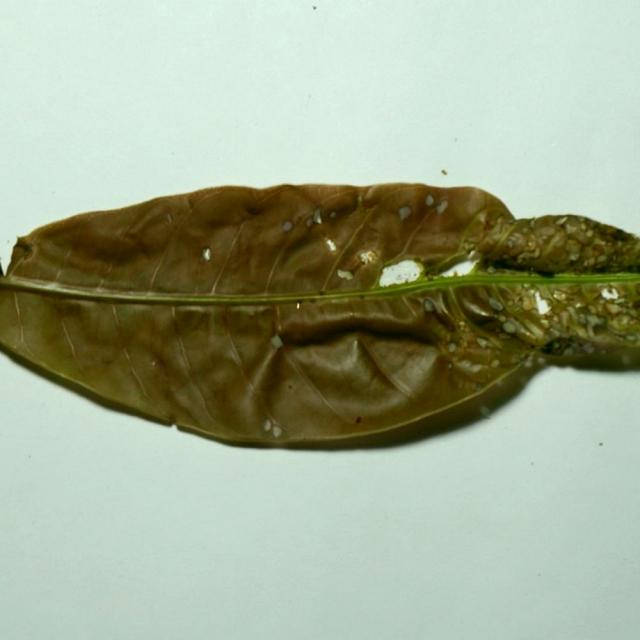Anthracnose: (376, 238, 638, 359), (352, 257, 479, 298), (380, 253, 483, 289), (335, 245, 386, 283), (437, 256, 482, 279), (533, 292, 552, 316)
Mango: (0, 184, 639, 454)
